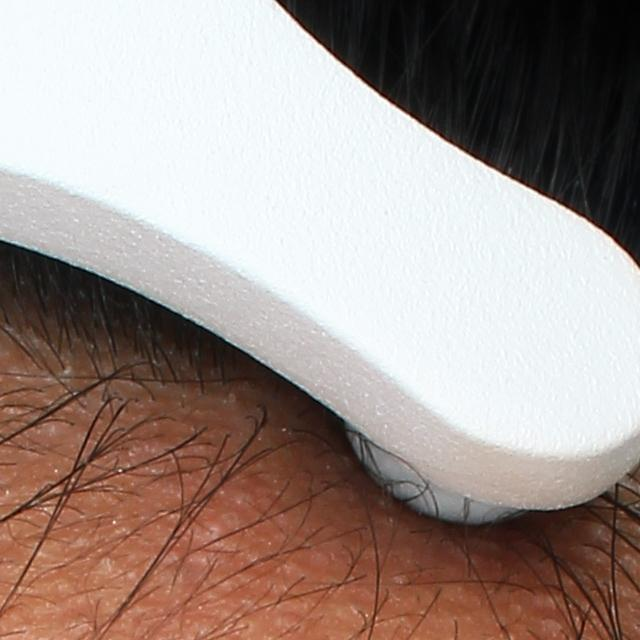comedo: (193, 515, 233, 559), (92, 550, 122, 577)
